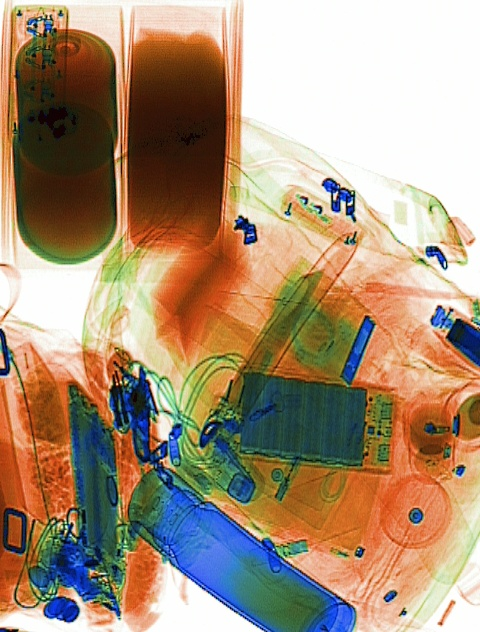powerbank: (239, 367, 400, 479)
